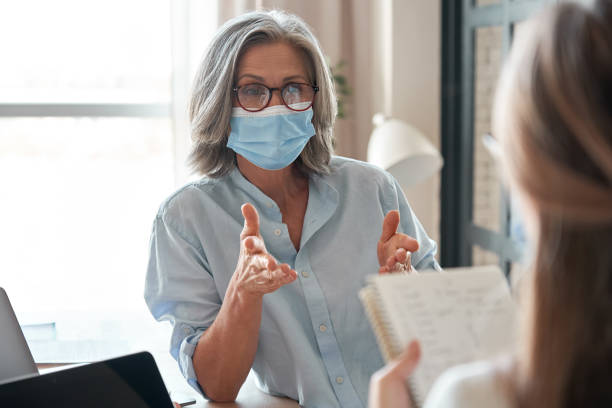with mask: (221, 29, 321, 175)
